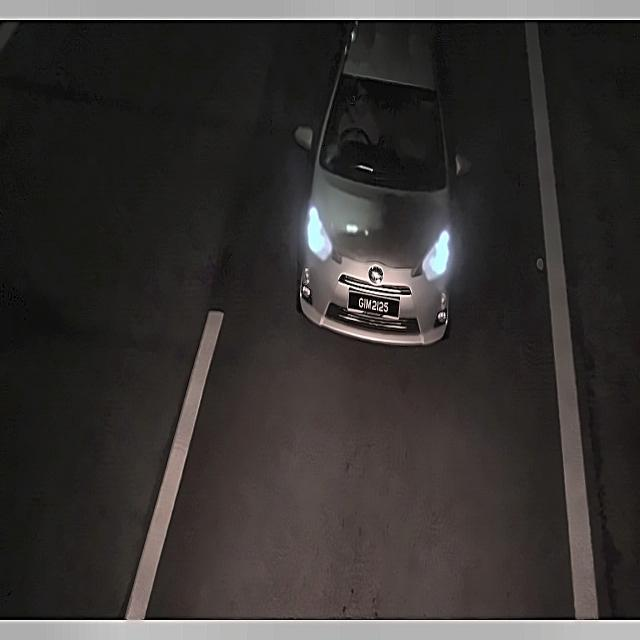car: (346, 289, 402, 319)
